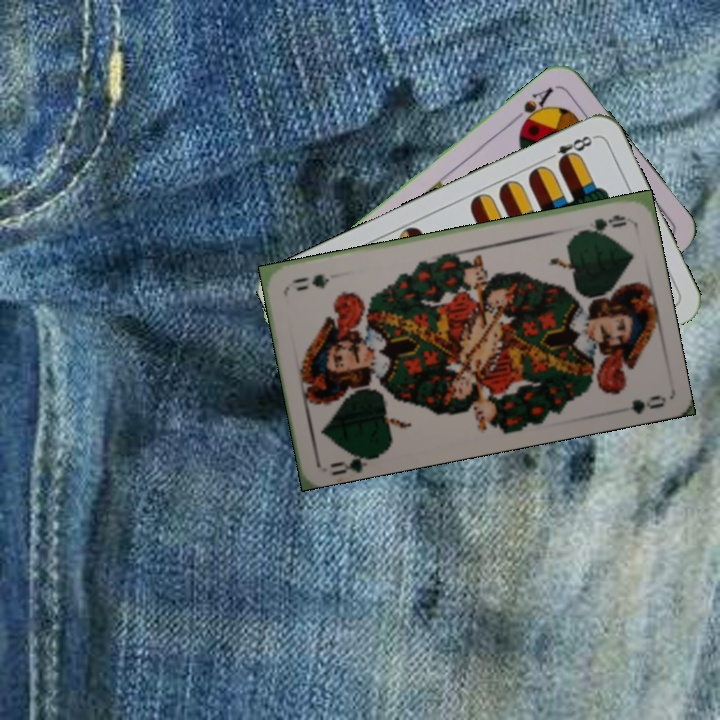E8: (542, 131, 598, 168)
GO: (326, 446, 381, 476), (573, 210, 629, 238)
SA: (516, 83, 556, 132)
